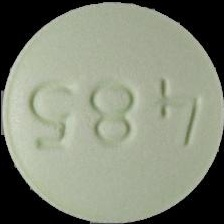60687-227: (0, 0, 224, 224)
